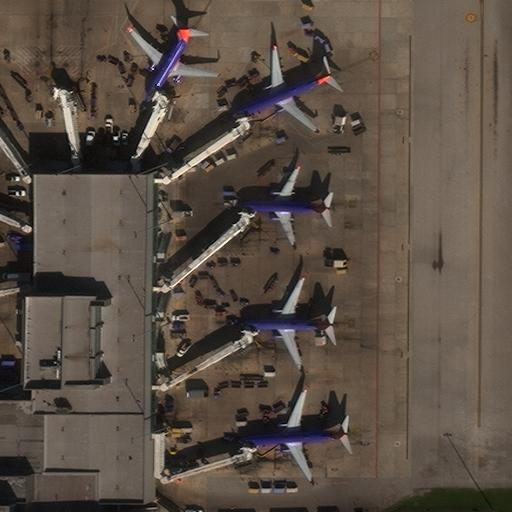Medium Civil Transport: (237, 392, 348, 482), (239, 277, 334, 370), (231, 44, 331, 132), (234, 165, 331, 247), (127, 26, 217, 101)
